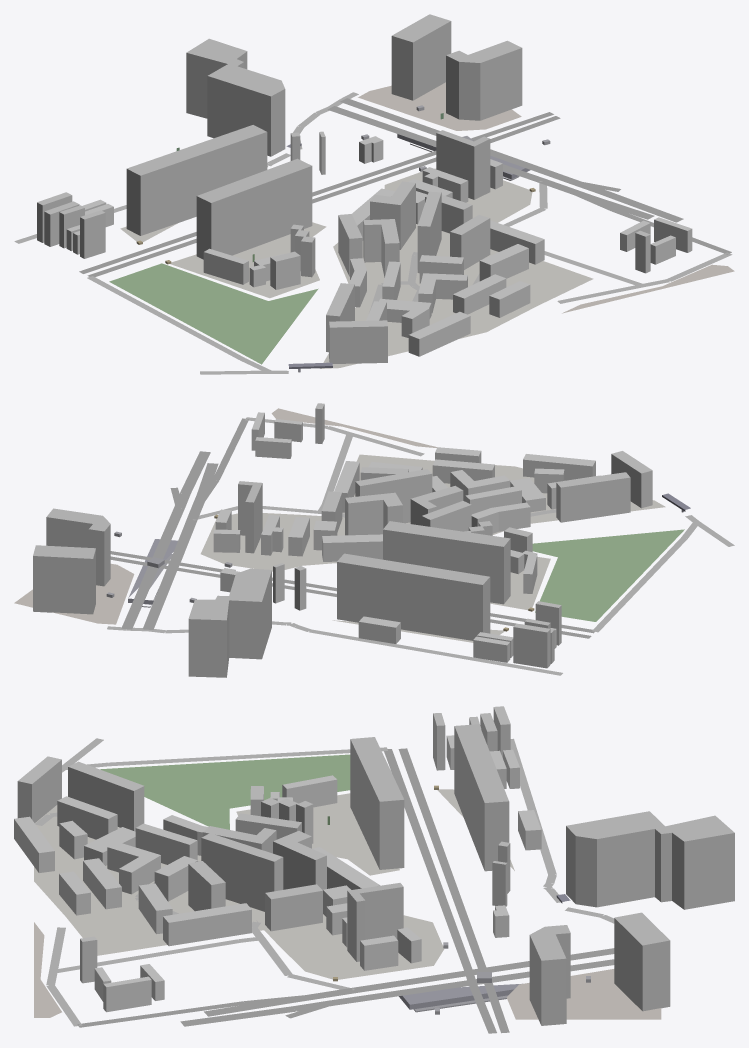
3 views of the same model, one above another, from view 1: azimuth 30°, elevation 25°; view 2: azimuth 150°, elevation 25°; view 3: azimuth 270°, elevation 25° (orthographic). The views are drawn at different scales.
Bounding box in the file's own units: 557 × 76.91 × 575.
